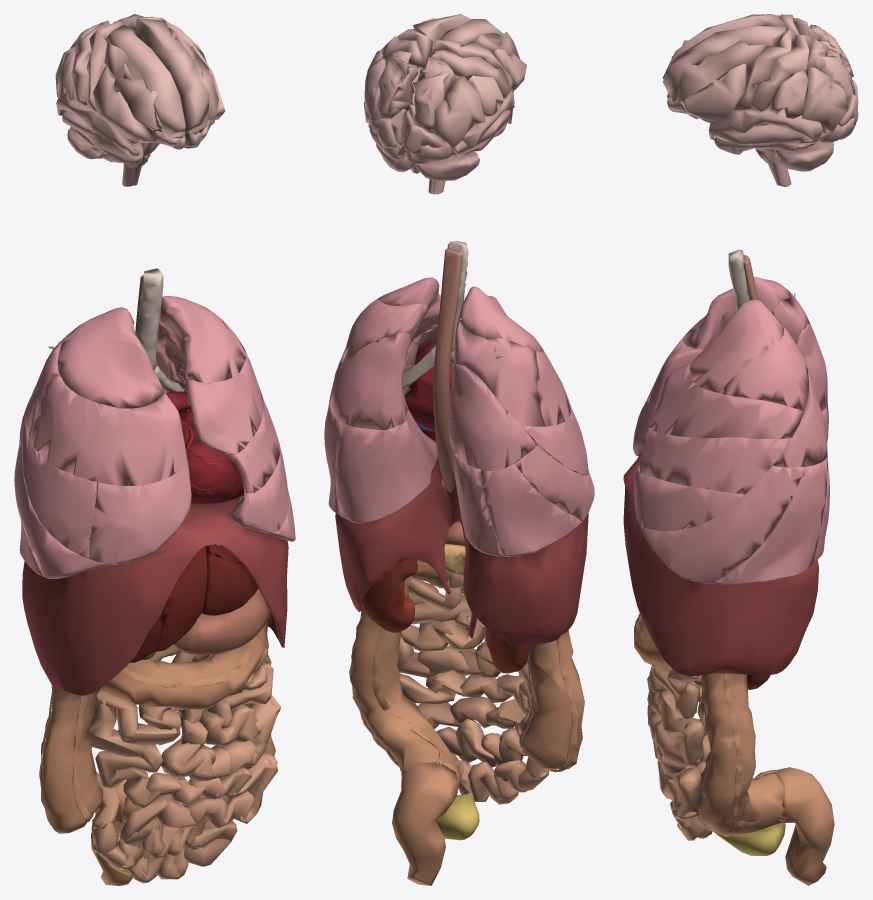
File: organs.glb
3 views of the same model, side by side, from view 1: azimuth 30°, elevation 25°; view 2: azimuth 150°, elevation 25°; view 3: azimuth 270°, elevation 25° (orthographic). The views are drawn at different scales.
Visible parts, largest first — view 1: lung-right, small-intestine, diaphragm, brain, lung-left, large-intestine, liver, heart, stomach, airways; view 2: lung-right, large-intestine, brain, lung-left, diaphragm, small-intestine, esophagus, kidney-left, heart, bladder, airways, kidney-right (+1 smaller); view 3: lung-left, brain, diaphragm, large-intestine, small-intestine, lung-right, bladder, airways.
Part boxes in pixels (box(x1,y1,x2,y2)): lung-right: box(14, 307, 191, 578); small-intestine: box(86, 648, 280, 883); diaphragm: box(22, 498, 288, 695); brain: box(55, 14, 225, 186); lung-left: box(155, 296, 295, 541); large-intestine: box(39, 621, 275, 885); liver: box(130, 545, 258, 662); heart: box(166, 391, 243, 504); stomach: box(173, 588, 271, 654); airways: box(39, 268, 184, 392); lung-right: box(448, 286, 594, 556); large-intestine: box(349, 561, 584, 885); brain: box(364, 14, 526, 194); lung-left: box(324, 277, 440, 523); diaphragm: box(335, 440, 588, 646); small-intestine: box(397, 573, 549, 804); esophagus: box(433, 248, 462, 492); kidney-left: box(362, 557, 417, 632); heart: box(404, 343, 453, 440); bladder: box(435, 792, 479, 840); airways: box(389, 241, 509, 422); kidney-right: box(485, 627, 529, 673); lung-left: box(634, 299, 829, 584); brain: box(662, 14, 858, 186); diaphragm: box(623, 453, 818, 676); large-intestine: box(634, 613, 834, 885); small-intestine: box(647, 664, 712, 840); lung-right: box(633, 277, 828, 456); bladder: box(714, 822, 785, 855); airways: box(728, 249, 795, 332).
Size of the model in its own units: 0.2549 by 0.8707 by 0.2152.
